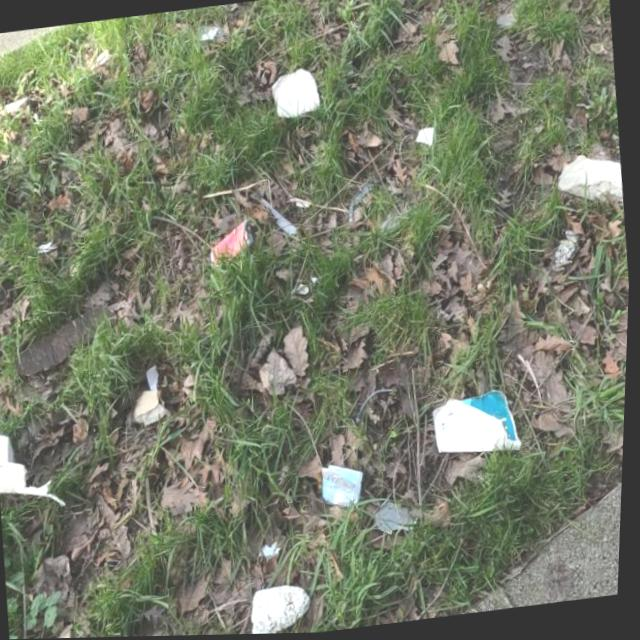Cup: (431, 387, 527, 463)
Paper: (554, 150, 627, 221), (0, 450, 70, 513), (268, 65, 321, 121), (0, 430, 18, 463), (413, 127, 436, 150)
Plastic: (207, 217, 257, 268), (320, 459, 368, 512), (552, 239, 578, 269), (565, 228, 581, 246)
